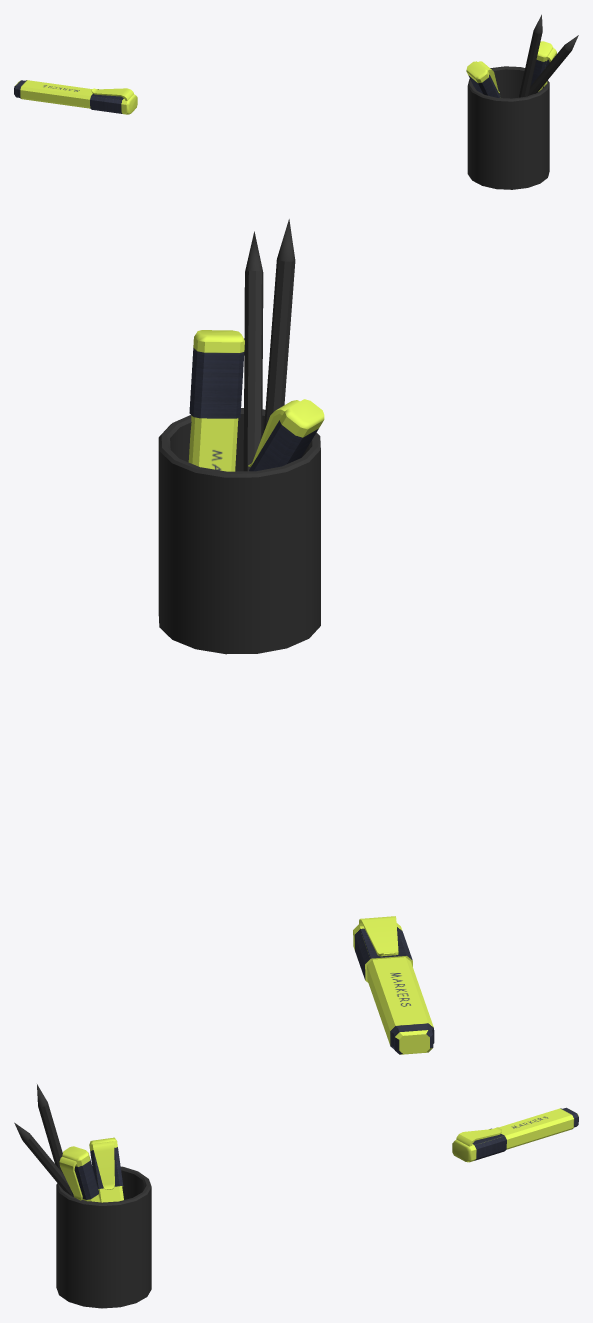
File: pens.fbx
3 renders of one model, top to bottom at view 1: azimuth 30°, elevation 25°; view 2: azimuth 150°, elevation 25°; view 3: azimuth 270°, elevation 25°, orthographic. The views are drawn at different scales.
Visible parts, largest first — view 1: penbox, pCube249, pCube250, pCylinder1, pCylinder2, pCube251; view 2: penbox, pCube251, pCube249, pCylinder2, pCylinder1, pCube250; view 3: penbox, pCube249, pCube250, pCube251, pCylinder2, pCylinder1.
Boxes of the visible parts, <box> form: penbox: <box>467,66,549,189</box>; pCube249: <box>14,80,137,114</box>; pCube250: <box>466,61,500,97</box>; pCylinder1: <box>518,14,542,97</box>; pCylinder2: <box>528,35,578,95</box>; pCube251: <box>530,41,556,91</box>; penbox: <box>158,408,320,654</box>; pCube251: <box>188,330,244,471</box>; pCube249: <box>353,916,434,1054</box>; pCylinder2: <box>243,231,263,471</box>; pCylinder1: <box>263,219,295,432</box>; pCube250: <box>248,399,324,471</box>; penbox: <box>56,1166,151,1308</box>; pCube249: <box>452,1107,578,1162</box>; pCube250: <box>89,1137,123,1202</box>; pCube251: <box>59,1146,100,1202</box>; pCylinder2: <box>14,1122,73,1196</box>; pCylinder1: <box>37,1084,62,1172</box>.
Size of the model in its own units: 0.9045 by 0.4695 by 1.15.
